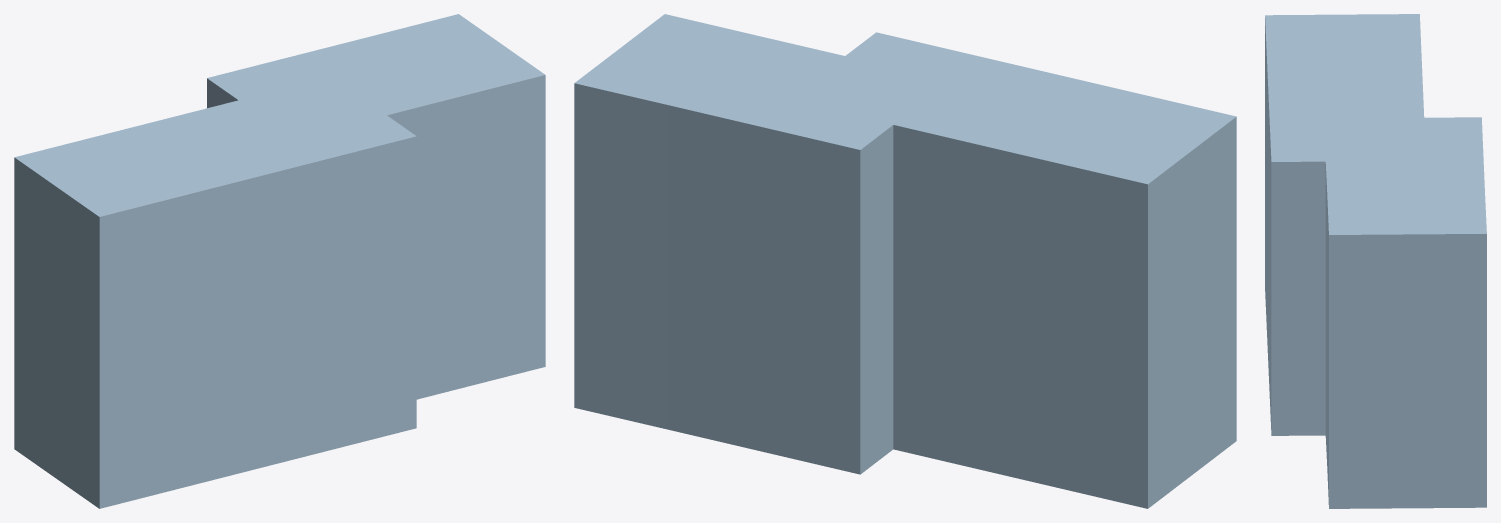
File: osm_way_223859787.glb
3 renders of one model, left to right at view 1: azimuth 30°, elevation 25°; view 2: azimuth 150°, elevation 25°; view 3: azimuth 270°, elevation 25°, orthographic. The views are drawn at different scales.
Visible parts, largest first — view 1: osm_way_223859787; view 2: osm_way_223859787; view 3: osm_way_223859787.
Boxes of the visible parts, <box> form: osm_way_223859787: <box>14,14,545,508</box>; osm_way_223859787: <box>574,14,1236,508</box>; osm_way_223859787: <box>1265,14,1486,508</box>.
Size of the model in its own units: 33.23 by 19.2 by 14.1.
